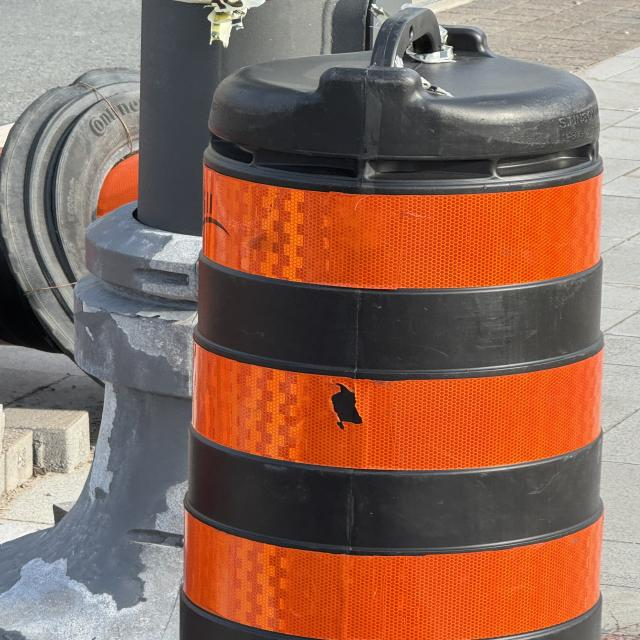Teraffic Barrel: (181, 8, 602, 640)
